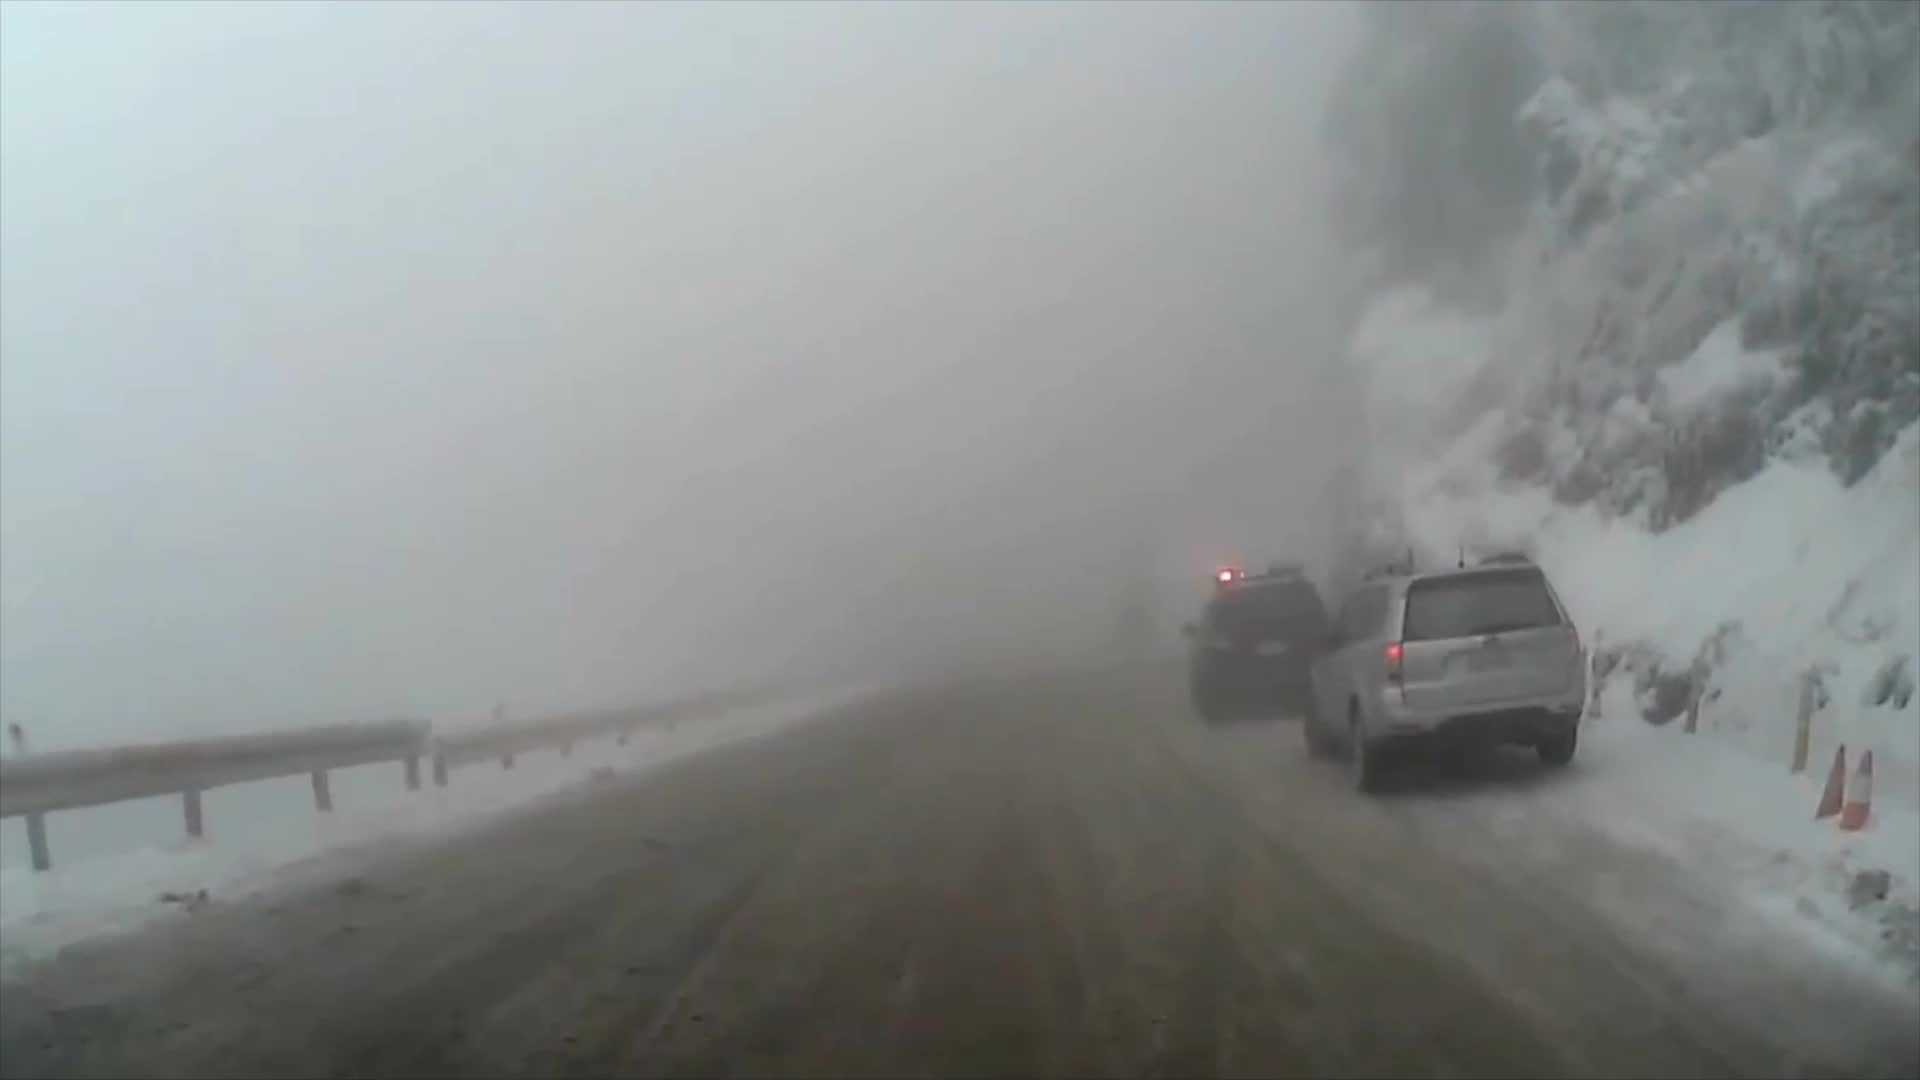vehicle: (1298, 547, 1588, 796), (1180, 556, 1341, 721)
